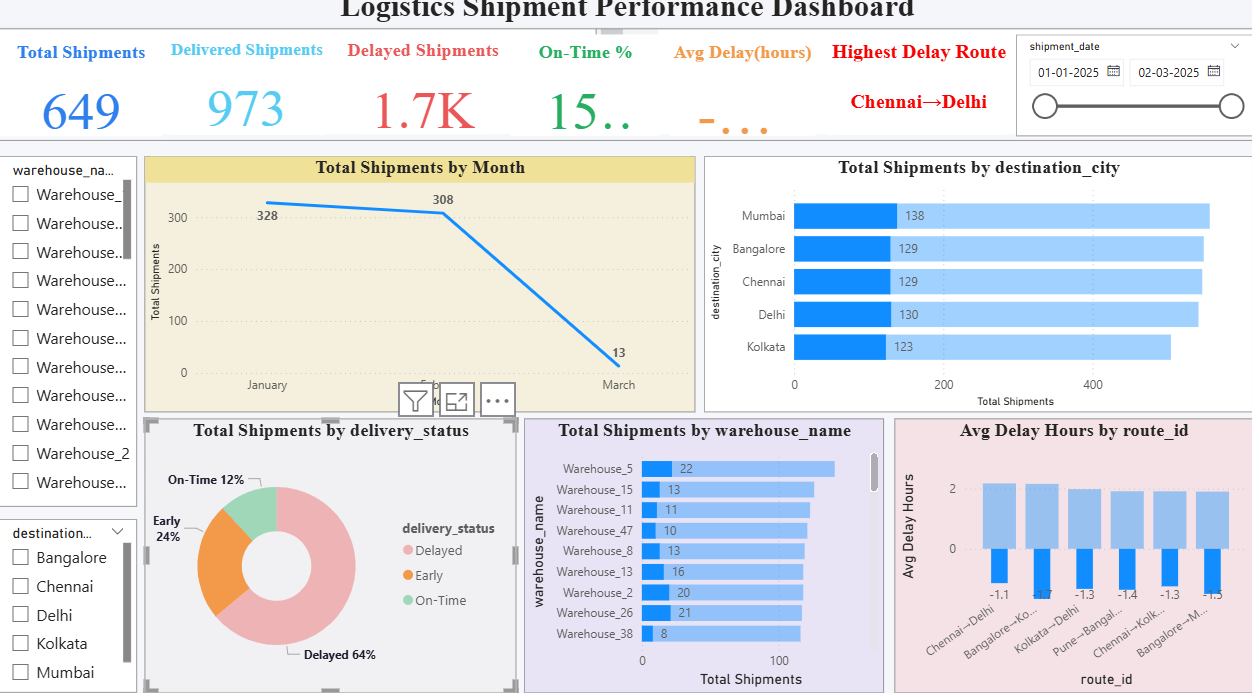

This screenshot's page, from the dashboard's own definition file:
{"tool":"powerbi","page":{"name":"Page 1","canvas":[1280,720],"ordinal":0},"visuals":[{"type":"cardVisual","box":[0,0,1279.4,52.4],"z":0},{"type":"lineChart","fields":{"Category":["dim_date.shipment_date.Variation.Date Hierarchy.Month"],"Y":["fact_logistics.Total Shipments"]},"box":[152.9,169.6,555.7,258.9],"z":2000},{"type":"donutChart","fields":{"Category":["fact_logistics.delivery_status"],"Y":["fact_logistics.Total Shipments"]},"box":[152.9,434.6,375.5,277.1],"z":3000},{"type":"barChart","fields":{"Y":["fact_logistics.Total Shipments"],"Category":["dim_warehouse.warehouse_name"]},"box":[536,434.6,363.4,277.1],"z":4000},{"type":"columnChart","fields":{"Y":["fact_logistics.Avg Delay Hours"],"Category":["fact_logistics.route_id"]},"box":[910,434.6,361.9,277.1],"z":5000},{"type":"barChart","fields":{"Category":["fact_logistics.destination_city"],"Y":["fact_logistics.Total Shipments"]},"box":[717.7,169.6,554.2,258.9],"z":6000},{"type":"cardVisual","title":"Logistics Shipment Performance Dashboard","fields":{"Data":["fact_logistics.Total Shipments"]},"box":[0,0,1278.8,40.9],"z":7000},{"type":"cardVisual","title":"Logistics Shipment Performance Dashboard","fields":{"Data":["fact_logistics.Total Shipments"]},"box":[0,40.9,1279.5,113.6],"z":7001},{"type":"cardVisual","title":"Total Shipments","fields":{"Data":["fact_logistics.Total Shipments"]},"box":[6.1,48.5,165,101.5],"z":7007},{"type":"cardVisual","title":"Delivered Shipments","fields":{"Data":["fact_logistics.Delivered Shipments"]},"box":[171.1,46.9,169.6,101.5],"z":7009},{"type":"cardVisual","title":"Delayed Shipments","fields":{"Data":["fact_logistics.Delayed Shipments"]},"box":[351.3,46.9,165,101.5],"z":7010},{"type":"cardVisual","title":"On-Time %","fields":{"Data":["fact_logistics.On-Time %"]},"box":[516.3,48.5,163.5,101.5],"z":7011},{"type":"cardVisual","title":"Avg Delay(hours)","fields":{"Data":["fact_logistics.Avg Delay Hours"]},"box":[676.8,48.5,159,101.5],"z":7012},{"type":"slicer","fields":{"Values":["dim_date.shipment_date"]},"box":[1032.7,46.9,239.2,103],"z":7013},{"type":"slicer","fields":{"Values":["dim_warehouse.warehouse_name"]},"box":[6.1,169.6,139.3,354.3],"z":7014},{"type":"slicer","fields":{"Values":["fact_logistics.destination_city"]},"box":[6.1,536,139.3,175.6],"z":7015},{"type":"cardVisual","title":"Highest Delay Route","fields":{"Data":["fact_logistics.Highest Delay Route"]},"box":[835.8,46.9,196.8,101.5],"z":7016}]}

Visuals, with their boxes in screenshot pixels (x1, y1, x2, y2), scaled from the page's 1280x720 canvas onto the 1252x693 screenshot:
cardVisual: [0, 0, 1251, 50]
lineChart - dim_date.shipment_date.Variation.Date Hierarchy.Month x fact_logistics.Total Shipments: [150, 163, 693, 412]
donutChart - fact_logistics.delivery_status x fact_logistics.Total Shipments: [150, 418, 517, 685]
barChart - fact_logistics.Total Shipments x dim_warehouse.warehouse_name: [524, 418, 880, 685]
columnChart - fact_logistics.Avg Delay Hours x fact_logistics.route_id: [890, 418, 1244, 685]
barChart - fact_logistics.destination_city x fact_logistics.Total Shipments: [702, 163, 1244, 412]
"Logistics Shipment Performance Dashboard" cardVisual: [0, 0, 1251, 39]
"Logistics Shipment Performance Dashboard" cardVisual: [0, 39, 1251, 149]
"Total Shipments" cardVisual: [6, 47, 167, 144]
"Delivered Shipments" cardVisual: [167, 45, 333, 143]
"Delayed Shipments" cardVisual: [344, 45, 505, 143]
"On-Time %" cardVisual: [505, 47, 665, 144]
"Avg Delay(hours)" cardVisual: [662, 47, 818, 144]
slicer - dim_date.shipment_date: [1010, 45, 1244, 144]
slicer - dim_warehouse.warehouse_name: [6, 163, 142, 504]
slicer - fact_logistics.destination_city: [6, 516, 142, 685]
"Highest Delay Route" cardVisual: [818, 45, 1010, 143]
